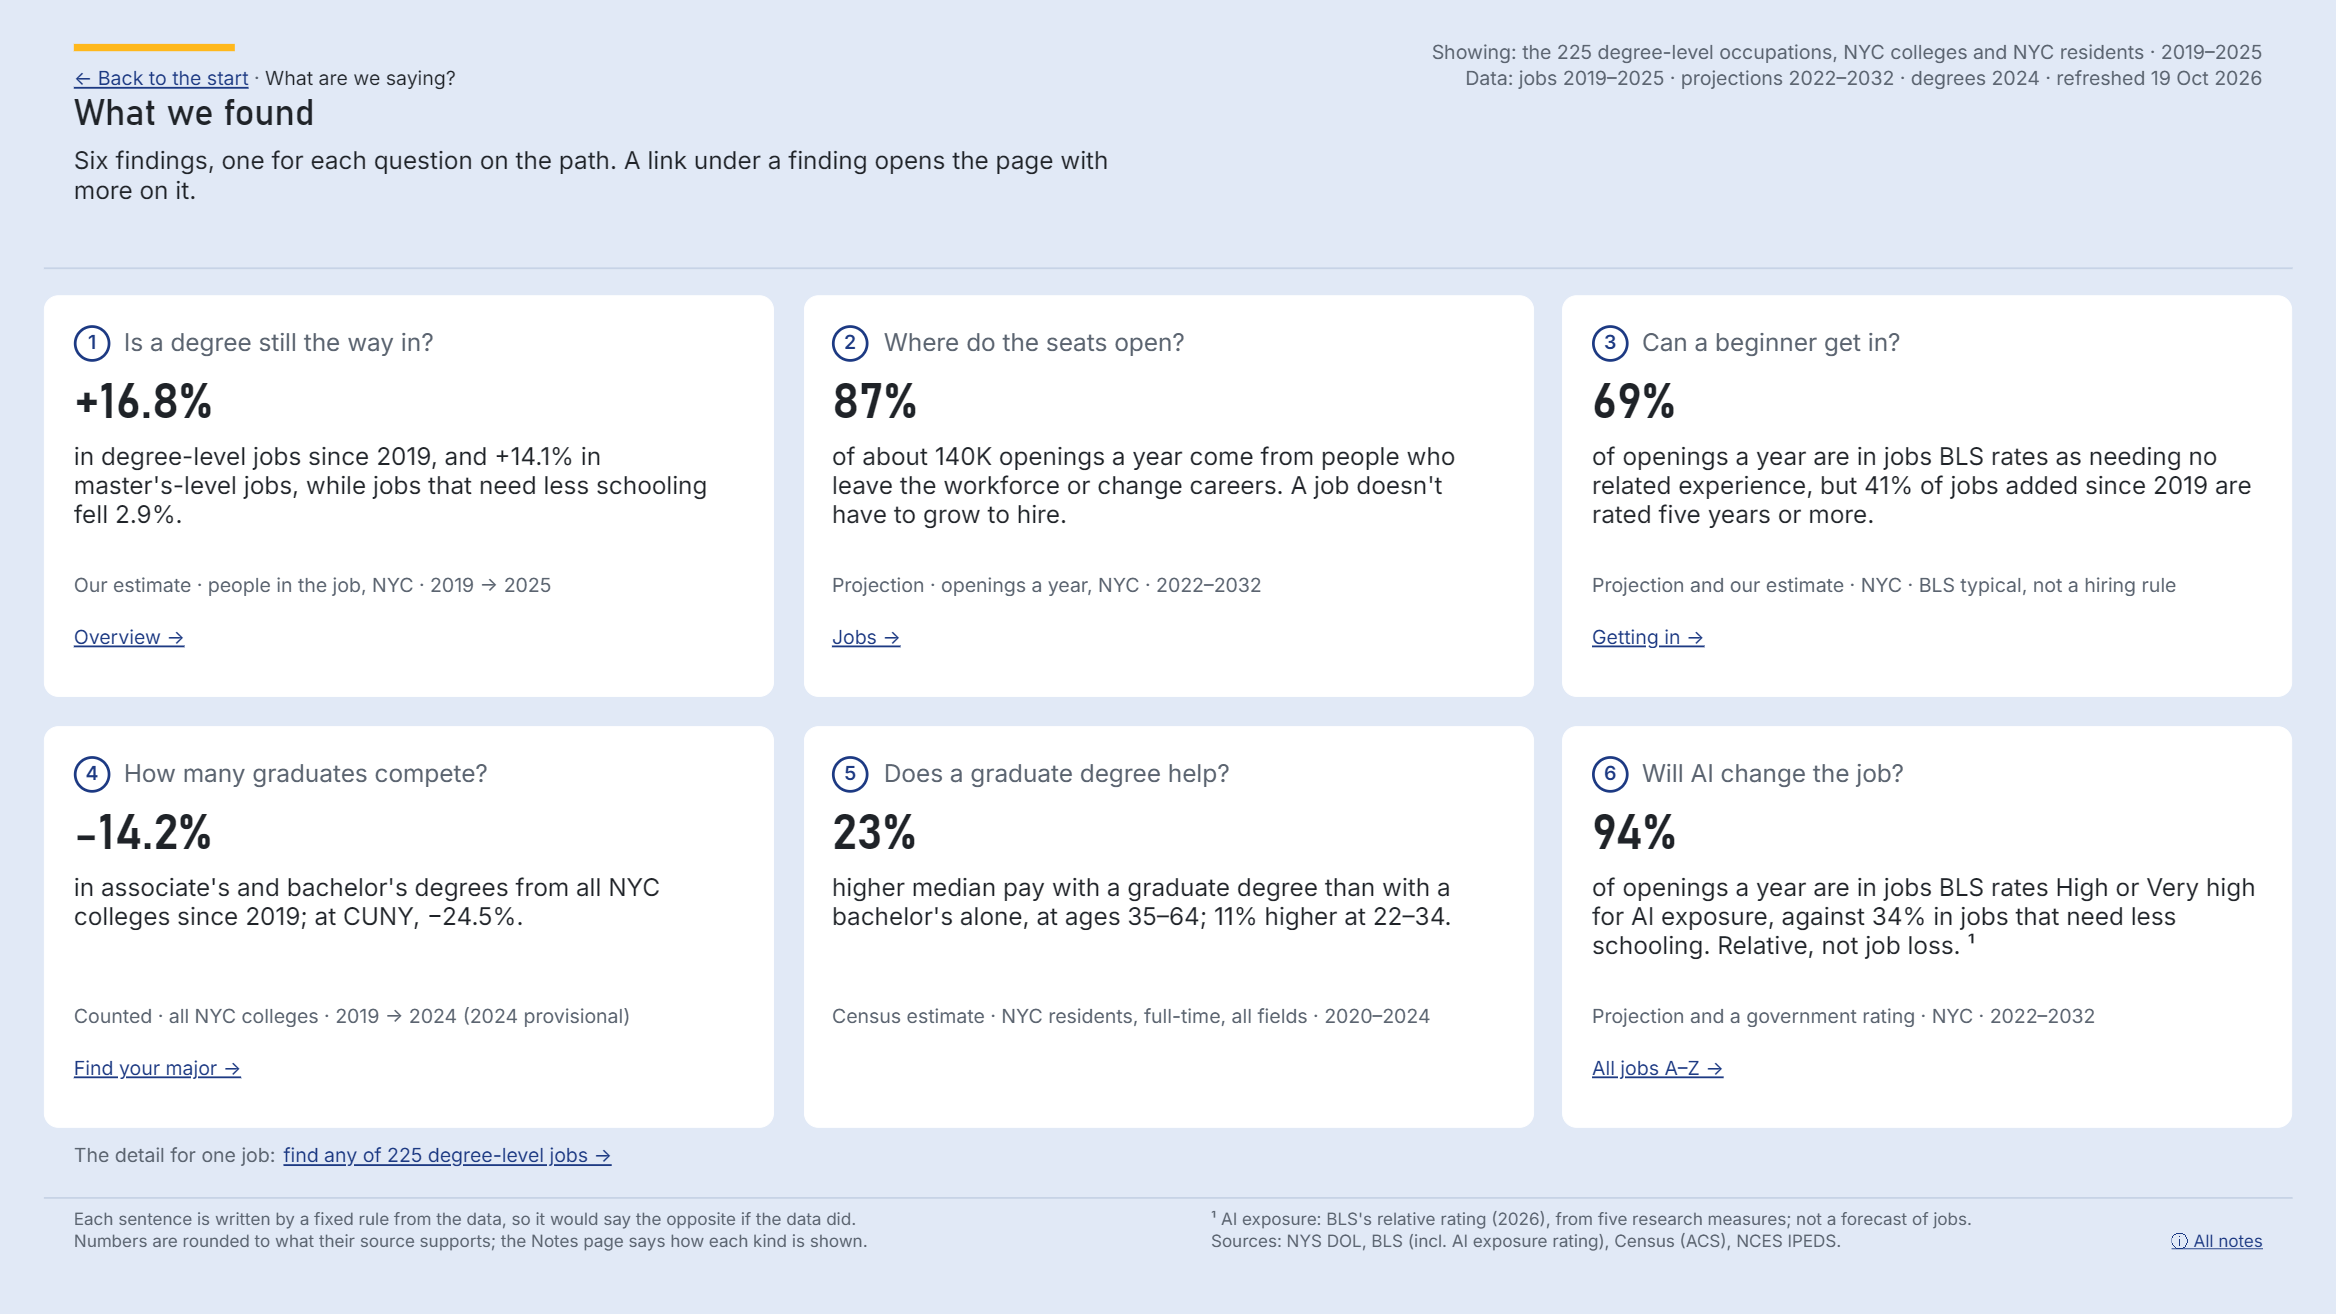

What the dashboard file says about the page in this screenshot:
{"tool":"powerbi","page":{"name":"What we found","canvas":[1280,720],"ordinal":3},"visuals":[{"type":"shape","box":[40,24,88,4],"z":2000},{"type":"textbox","box":[40,36,576,14],"z":3000},{"type":"actionButton","box":[40,36,96,14],"z":4000},{"type":"textbox","box":[40,50,576,28],"z":5000},{"type":"textbox","box":[40,80,576,52],"z":6000},{"type":"textbox","box":[664,22,576,14],"z":7000},{"type":"shape","box":[664,36,576,14],"z":8000},{"type":"shape","box":[24,146,1232,1],"z":9000},{"type":"shape","box":[24,162,400,220],"z":10000},{"type":"image","box":[40,178,20,20],"z":11000},{"type":"textbox","box":[68,179,340,18],"z":12000},{"type":"shape","box":[40,206,368,32],"z":13000},{"type":"shape","box":[40,242,368,68],"z":14000},{"type":"shape","box":[40,314,368,16],"z":15000},{"type":"actionButton","box":[40,342,200,16],"z":16000},{"type":"shape","box":[440,162,400,220],"z":17000},{"type":"image","box":[456,178,20,20],"z":18000},{"type":"textbox","box":[484,179,340,18],"z":19000},{"type":"shape","box":[456,206,368,32],"z":20000},{"type":"shape","box":[456,242,368,68],"z":21000},{"type":"shape","box":[456,314,368,16],"z":22000},{"type":"actionButton","box":[456,342,200,16],"z":23000},{"type":"shape","box":[856,162,400,220],"z":24000},{"type":"image","box":[872,178,20,20],"z":25000},{"type":"textbox","box":[900,179,340,18],"z":26000},{"type":"shape","box":[872,206,368,32],"z":27000},{"type":"shape","box":[872,242,368,68],"z":28000},{"type":"shape","box":[872,314,368,16],"z":29000},{"type":"actionButton","box":[872,342,200,16],"z":30000},{"type":"shape","box":[24,398,400,220],"z":31000},{"type":"image","box":[40,414,20,20],"z":32000},{"type":"textbox","box":[68,415,340,18],"z":33000},{"type":"shape","box":[40,442,368,32],"z":34000},{"type":"shape","box":[40,478,368,68],"z":35000},{"type":"shape","box":[40,550,368,16],"z":36000},{"type":"actionButton","box":[40,578,200,16],"z":37000},{"type":"shape","box":[440,398,400,220],"z":38000},{"type":"image","box":[456,414,20,20],"z":39000},{"type":"textbox","box":[484,415,340,18],"z":40000},{"type":"shape","box":[456,442,368,32],"z":41000},{"type":"shape","box":[456,478,368,68],"z":42000},{"type":"shape","box":[456,550,368,16],"z":43000},{"type":"shape","box":[856,398,400,220],"z":44000},{"type":"image","box":[872,414,20,20],"z":45000},{"type":"textbox","box":[900,415,340,18],"z":46000},{"type":"shape","box":[872,442,368,32],"z":47000},{"type":"shape","box":[872,478,368,68],"z":48000},{"type":"shape","box":[872,550,368,16],"z":49000},{"type":"actionButton","box":[872,578,200,16],"z":50000},{"type":"textbox","box":[40,626,112,16],"z":51000},{"type":"actionButton","box":[155,626,240,16],"z":52000},{"type":"shape","box":[40,662,576,12],"z":53000},{"type":"shape","box":[664,662,576,12],"z":54000},{"type":"shape","box":[40,674,576,12],"z":55000},{"type":"shape","box":[664,674,504,12],"z":56000},{"type":"shape","box":[24,656,1232,1],"z":57000},{"type":"actionButton","box":[1184,674,56,14],"z":58000}]}

Visuals, with their boxes in screenshot pixels (x1, y1, x2, y2), scaled from the page's 1280x720 canvas onto the 2336x1314 screenshot:
shape: region(73, 44, 234, 51)
textbox: region(73, 66, 1124, 91)
actionButton: region(73, 66, 248, 91)
textbox: region(73, 91, 1124, 142)
textbox: region(73, 146, 1124, 241)
textbox: region(1212, 40, 2263, 66)
shape: region(1212, 66, 2263, 91)
shape: region(44, 266, 2292, 268)
shape: region(44, 296, 774, 697)
image: region(73, 325, 110, 361)
textbox: region(124, 327, 745, 360)
shape: region(73, 376, 745, 434)
shape: region(73, 442, 745, 566)
shape: region(73, 573, 745, 602)
actionButton: region(73, 624, 438, 653)
shape: region(803, 296, 1533, 697)
image: region(832, 325, 869, 361)
textbox: region(883, 327, 1504, 360)
shape: region(832, 376, 1504, 434)
shape: region(832, 442, 1504, 566)
shape: region(832, 573, 1504, 602)
actionButton: region(832, 624, 1197, 653)
shape: region(1562, 296, 2292, 697)
image: region(1591, 325, 1628, 361)
textbox: region(1642, 327, 2263, 360)
shape: region(1591, 376, 2263, 434)
shape: region(1591, 442, 2263, 566)
shape: region(1591, 573, 2263, 602)
actionButton: region(1591, 624, 1956, 653)
shape: region(44, 726, 774, 1128)
image: region(73, 756, 110, 792)
textbox: region(124, 757, 745, 790)
shape: region(73, 807, 745, 865)
shape: region(73, 872, 745, 996)
shape: region(73, 1004, 745, 1033)
actionButton: region(73, 1055, 438, 1084)
shape: region(803, 726, 1533, 1128)
image: region(832, 756, 869, 792)
textbox: region(883, 757, 1504, 790)
shape: region(832, 807, 1504, 865)
shape: region(832, 872, 1504, 996)
shape: region(832, 1004, 1504, 1033)
shape: region(1562, 726, 2292, 1128)
image: region(1591, 756, 1628, 792)
textbox: region(1642, 757, 2263, 790)
shape: region(1591, 807, 2263, 865)
shape: region(1591, 872, 2263, 996)
shape: region(1591, 1004, 2263, 1033)
actionButton: region(1591, 1055, 1956, 1084)
textbox: region(73, 1142, 277, 1172)
actionButton: region(283, 1142, 721, 1172)
shape: region(73, 1208, 1124, 1230)
shape: region(1212, 1208, 2263, 1230)
shape: region(73, 1230, 1124, 1252)
shape: region(1212, 1230, 2132, 1252)
shape: region(44, 1197, 2292, 1199)
actionButton: region(2161, 1230, 2263, 1256)
